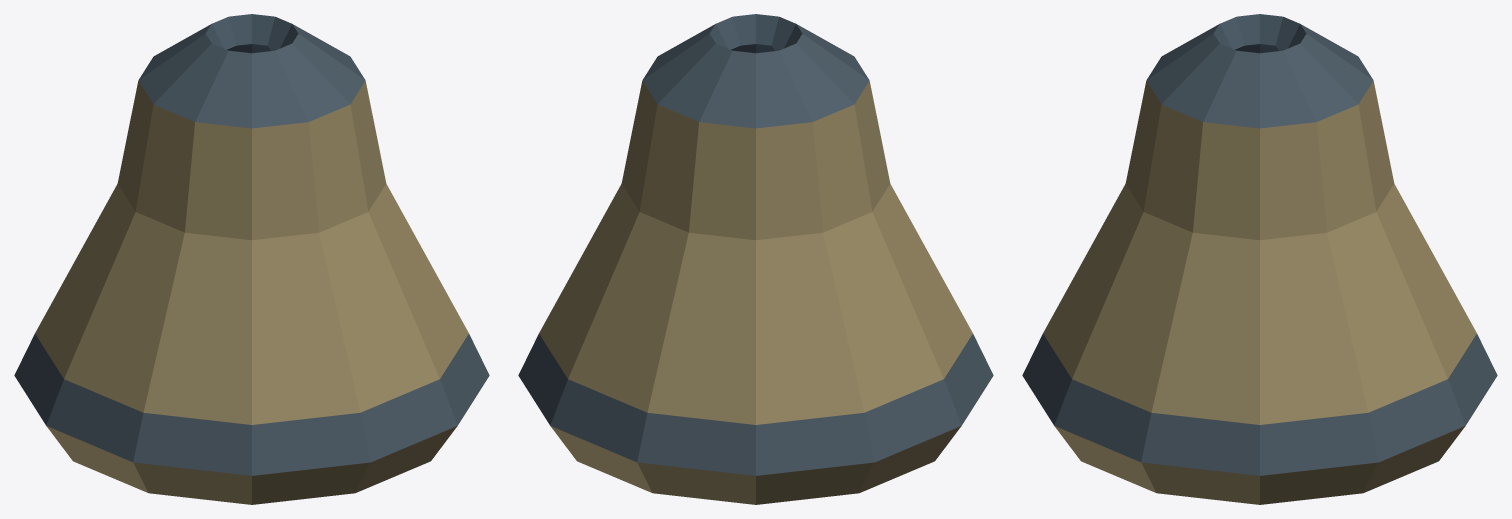
File: bell.glb
3 views of the same model, side by side, from view 1: azimuth 30°, elevation 25°; view 2: azimuth 150°, elevation 25°; view 3: azimuth 270°, elevation 25° (orthographic).
Visible parts, largest first — view 1: bell__body; view 2: bell__body; view 3: bell__body.
Boxes of the visible parts, <box> form: bell__body: <box>14,14,489,504</box>; bell__body: <box>518,14,993,504</box>; bell__body: <box>1022,14,1497,504</box>.
Bounding box in the file's own units: 0.92 × 0.86 × 0.92.
